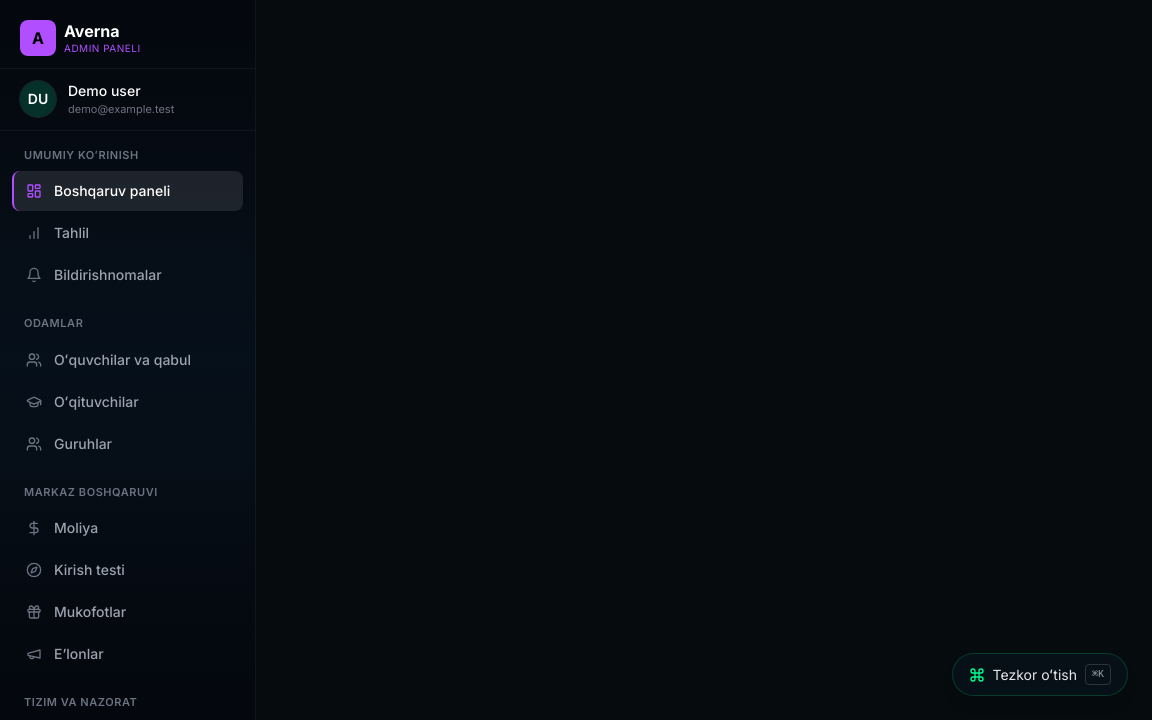
Test: student account without Billing › retains the admin finance navigation and command
This screenshot has width=1152, height=720.
Expected: the link to "/admin/finance" is shown, [26,519,98,536]
Step 1. Click the button with aria-label "Open command palette" → (1040, 674), box [952,653,1128,696]
(page scrolled)
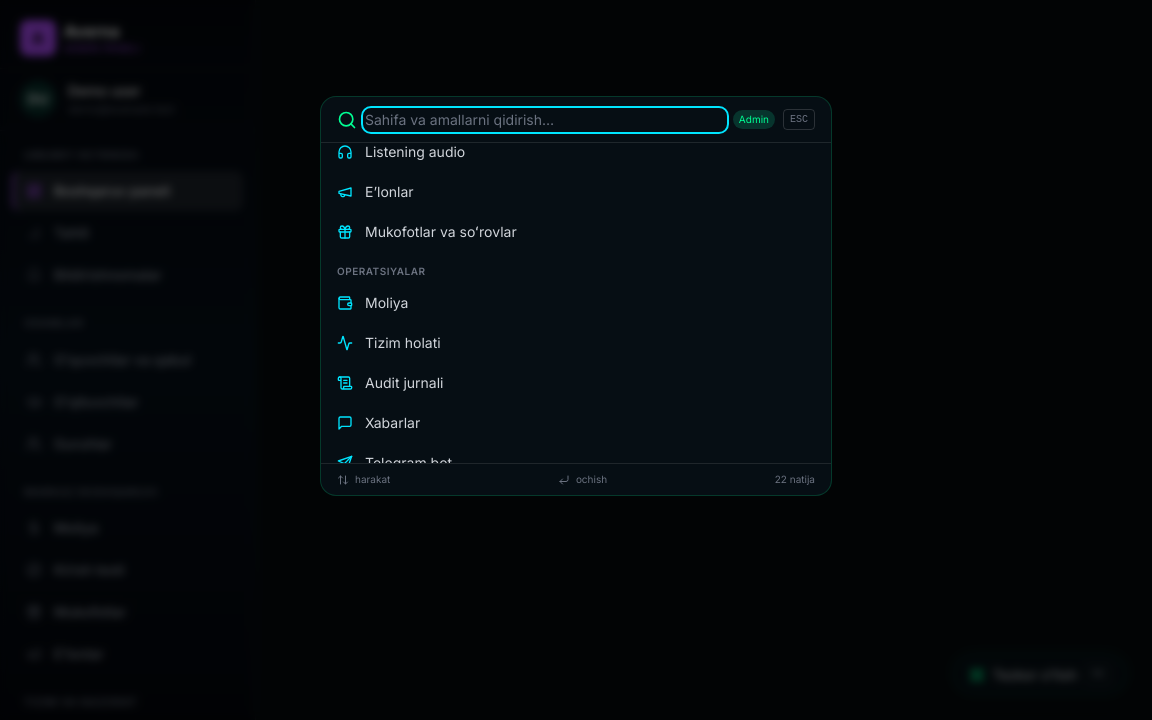
Result: the button "Moliya" is shown at [321,283,831,323]
